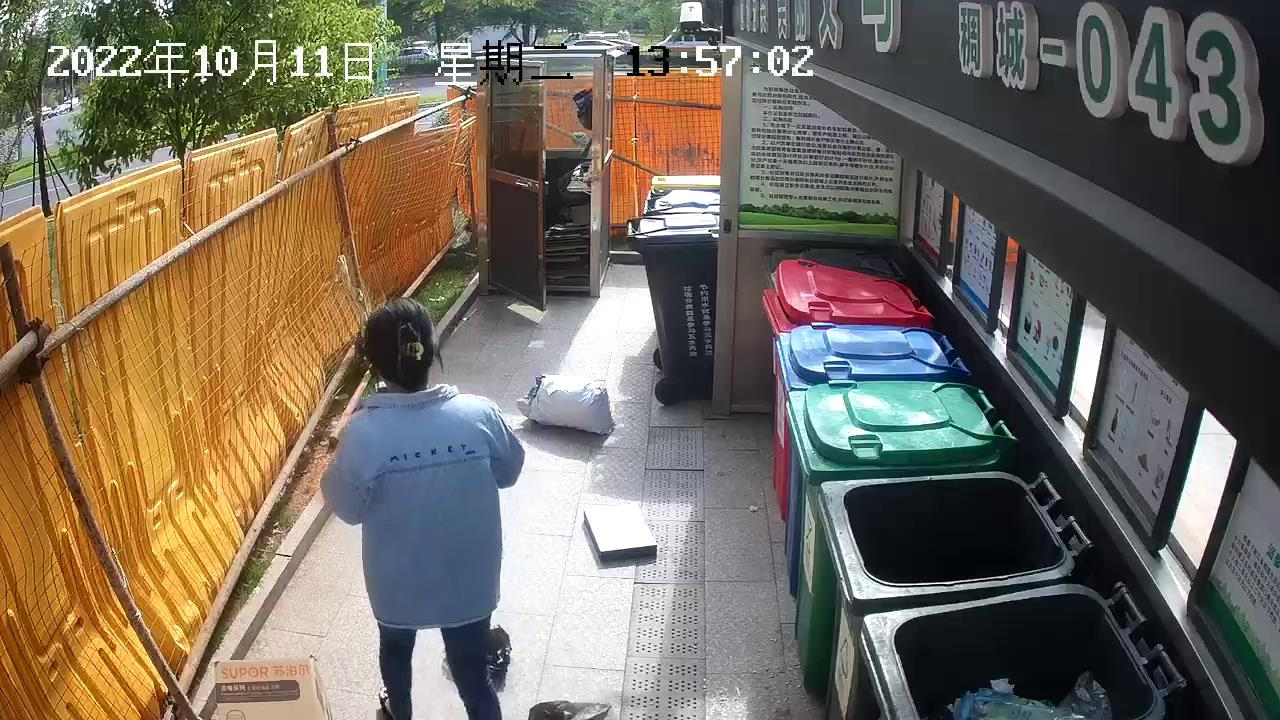garbage: (513, 367, 619, 443)
worker: (314, 291, 528, 720)
zhizhipin: (210, 653, 335, 720)
